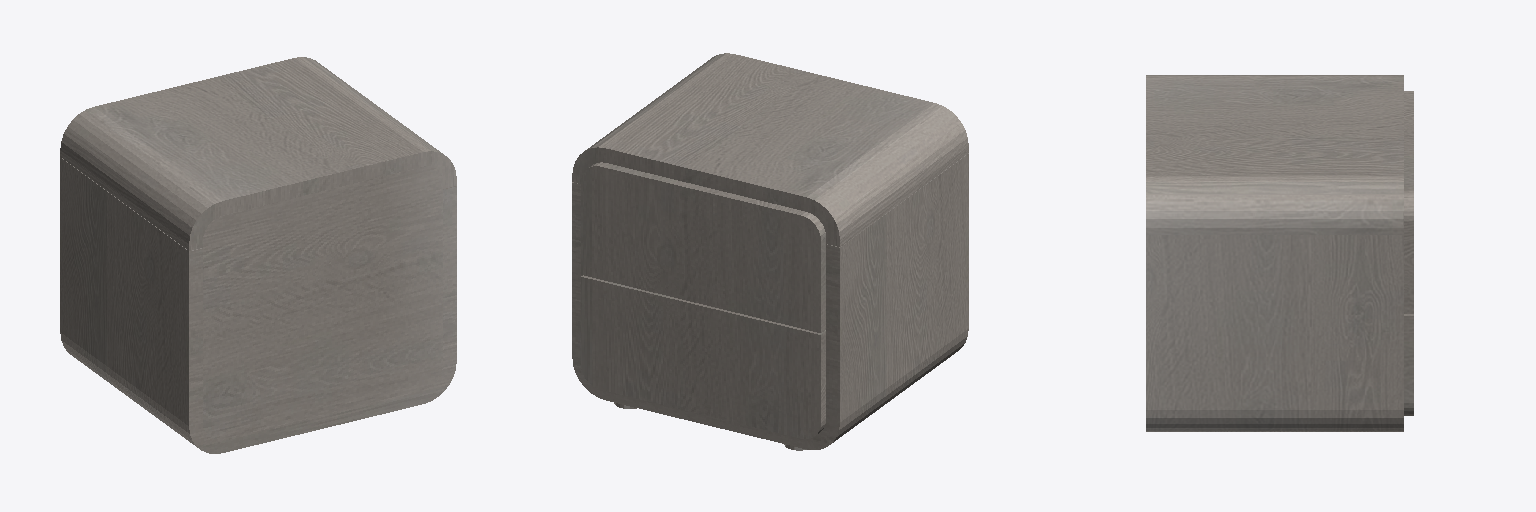
3 renders of one model, left to right at view 1: azimuth 30°, elevation 25°; view 2: azimuth 150°, elevation 25°; view 3: azimuth 270°, elevation 25°, orthographic.
Size of the model in its own units: 0.5 by 0.4584 by 0.4334.
1 materials, 1 textured.